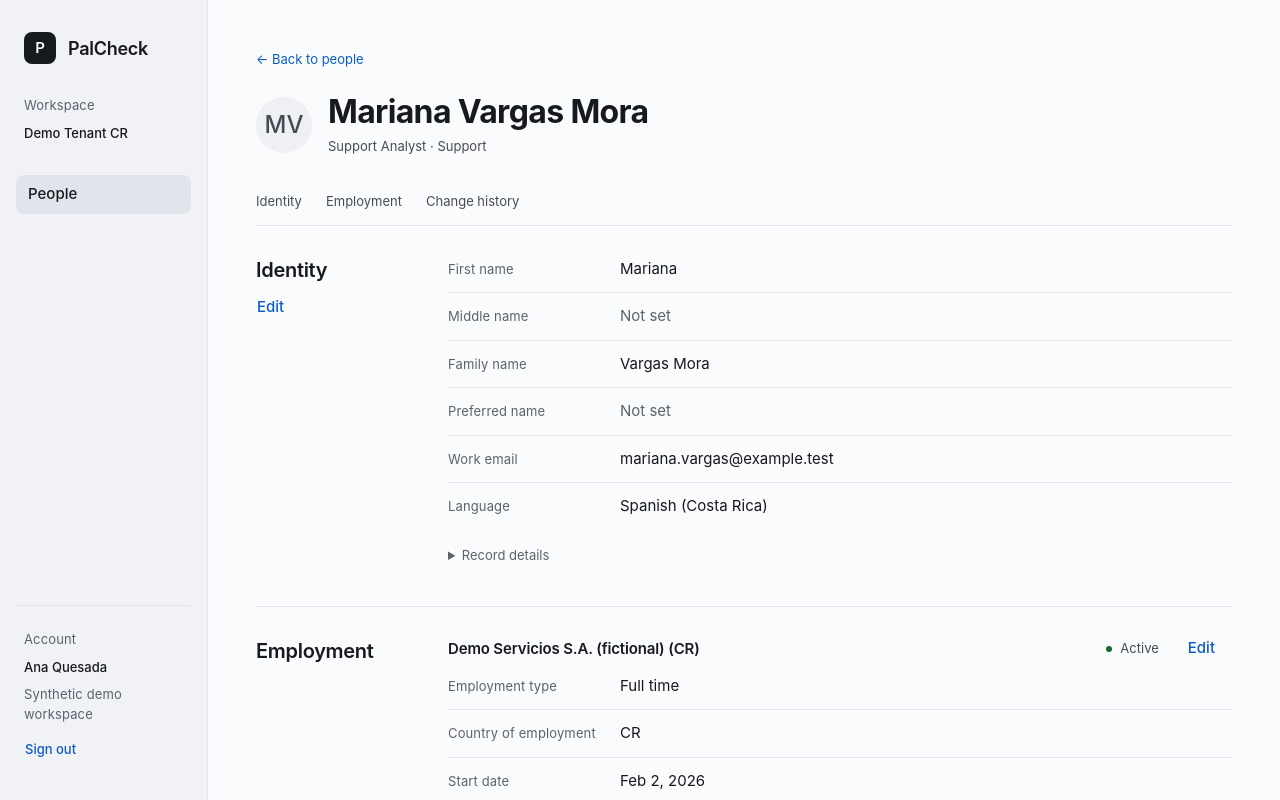
Test case: Person detail › editing identity › shows server validation next to the field and in a summary
Click the button with aria-label "Edit identity": (271, 308) [240,290,301,326]
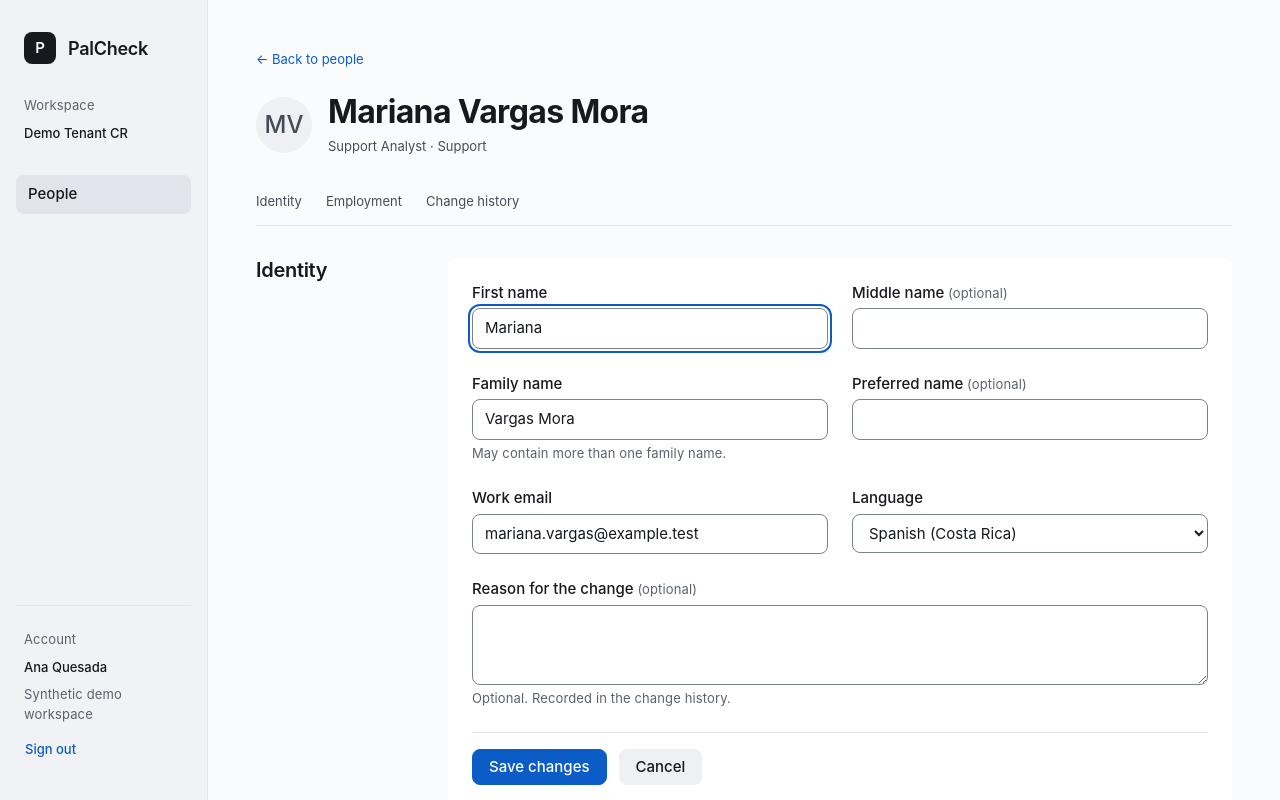
Click the button "Save changes": (539, 767) [472,749,606,785]
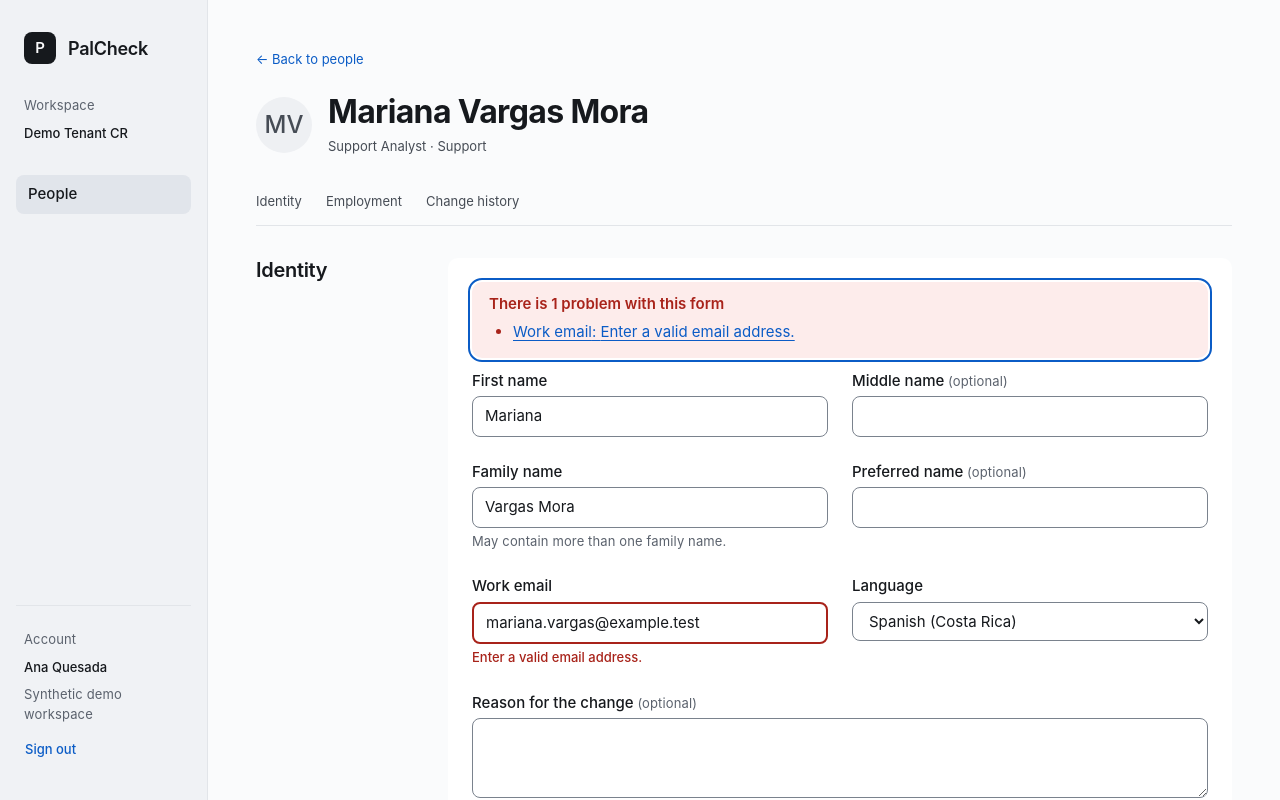
Expected: the message shows "There is 1 problem with this form", [489,294,724,313]
